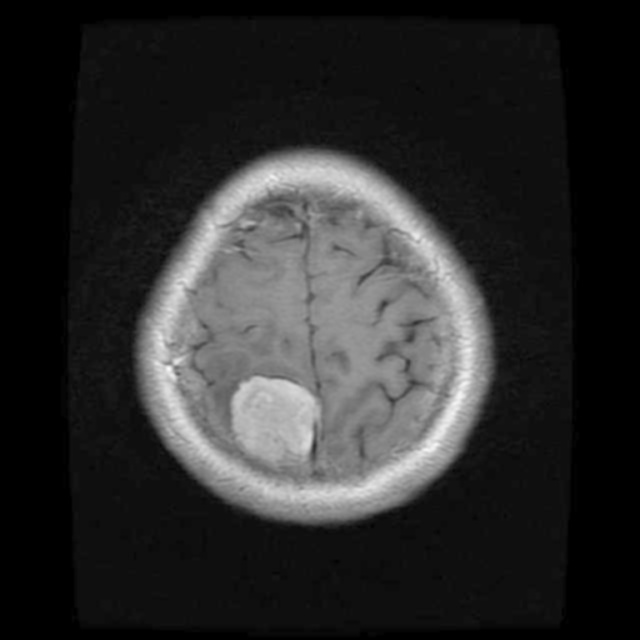meningioma tumor: (221, 364, 335, 471)
